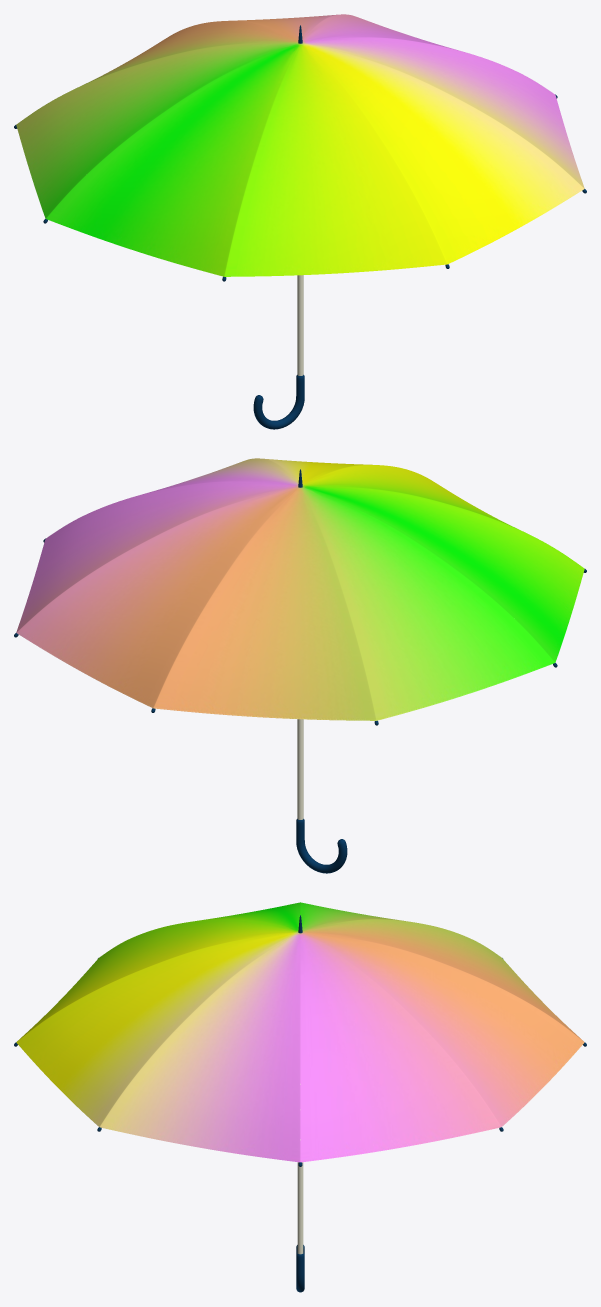
File: umbrella.glb
3 views of the same model, one above another, from view 1: azimuth 30°, elevation 25°; view 2: azimuth 150°, elevation 25°; view 3: azimuth 270°, elevation 25° (orthographic). The views are drawn at different scales.
Visible parts, largest first — view 1: Material1 (×3); view 2: Material1 (×3); view 3: Material1 (×2).
Part boxes in pixels (x1,y1,x2,y2): Material1 (×3): (16,14,584,429); Material1 (×3): (16,458,584,873); Material1 (×2): (16,902,584,1254).
Bounding box in the file's own units: 190 × 140 × 190.
Materials: 3 (1 with a texture image).
